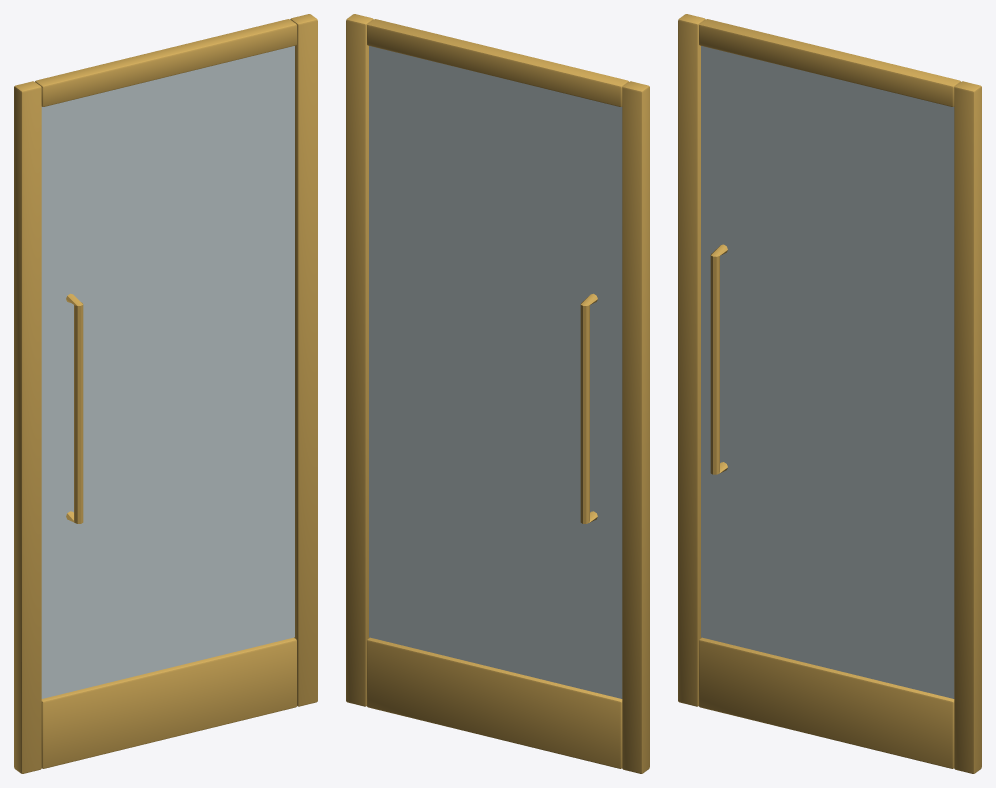
File: door_glass.glb
3 renders of one model, left to right at view 1: azimuth 30°, elevation 25°; view 2: azimuth 150°, elevation 25°; view 3: azimuth 330°, elevation 25°, orthographic.
Visible parts, largest first — view 1: door_glass; view 2: door_glass; view 3: door_glass.
Part boxes in pixels (box(x1,y1,x2,y2)): door_glass: box(14, 14, 317, 773); door_glass: box(346, 14, 649, 773); door_glass: box(678, 14, 981, 773).
Size of the model in its own units: 1 by 2.2 by 0.1879.
